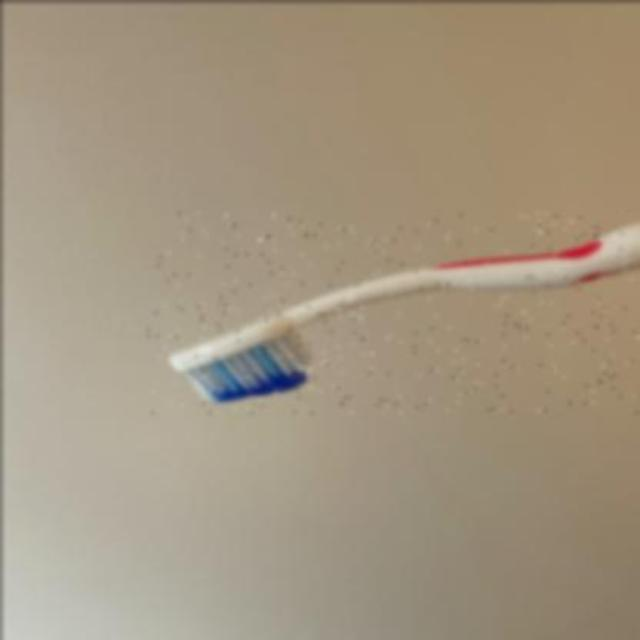toothbrush: (144, 208, 640, 412)
